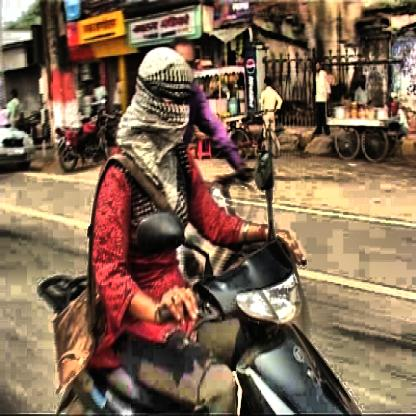not_wear: (138, 45, 192, 155)
